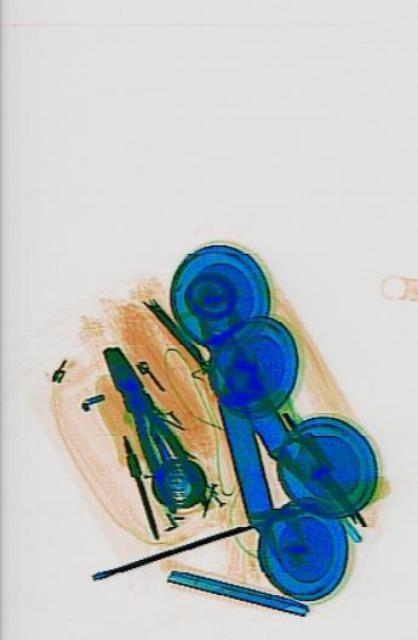Pliers: (93, 327, 204, 525)
